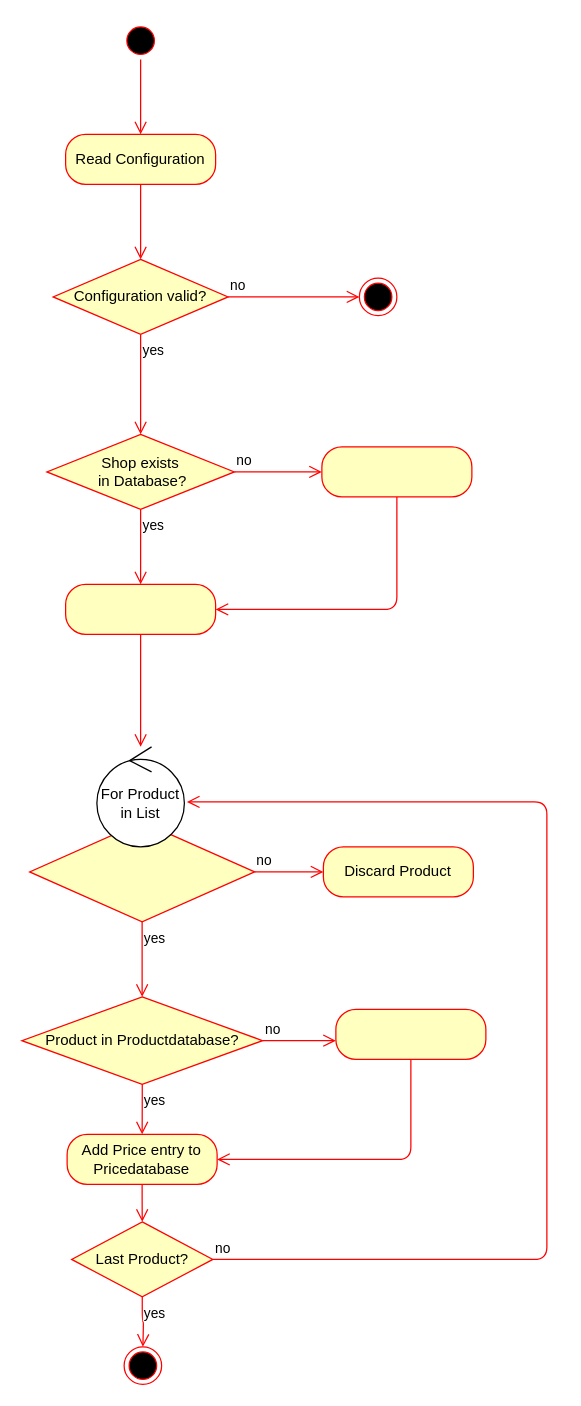
Image size: 581x1406. Some labels were removed from this diagram. Here are the shapes that lost their labels. From the top down, the centre of each, then its label:
At point 396,471: "Create Entry".
At point 140,608: "Fetch Products from Category".
At point 141,871: "Product available on Amazon?".
At point 410,1033: "Add to Database".
